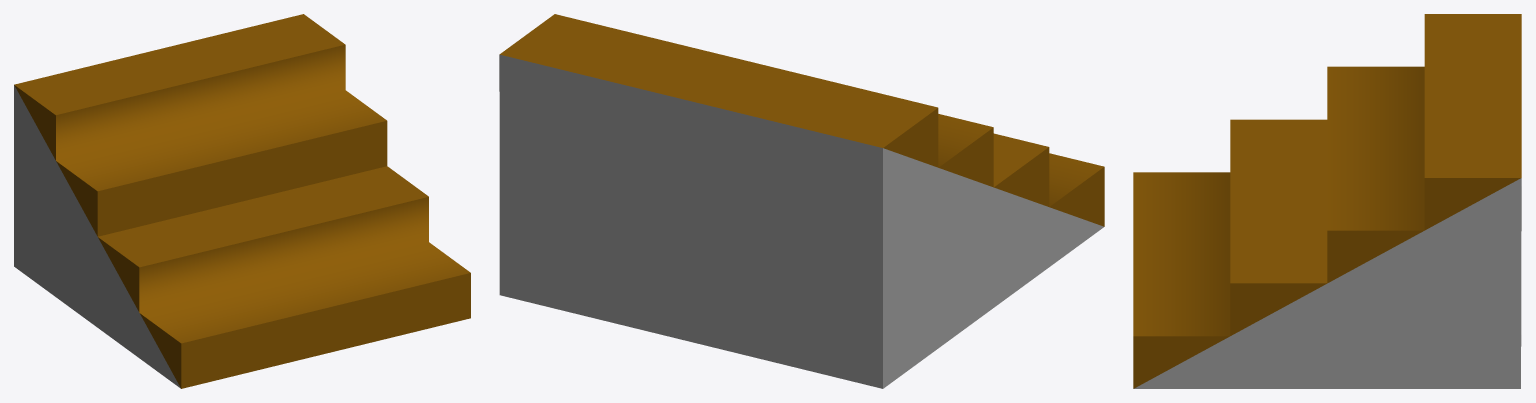
File: Stair_Half_1x1.fbx
3 renders of one model, left to right at view 1: azimuth 30°, elevation 25°; view 2: azimuth 150°, elevation 25°; view 3: azimuth 270°, elevation 25°, orthographic. The views are drawn at different scales.
Visible parts, largest first — view 1: Stair_Half_1x1; view 2: Stair_Half_1x1; view 3: Stair_Half_1x1.
Boxes of the visible parts, <box> form: Stair_Half_1x1: <box>14,14,470,388</box>; Stair_Half_1x1: <box>499,14,1104,388</box>; Stair_Half_1x1: <box>1133,14,1521,388</box>.
Size of the model in its own units: 1 by 0.6 by 1.
